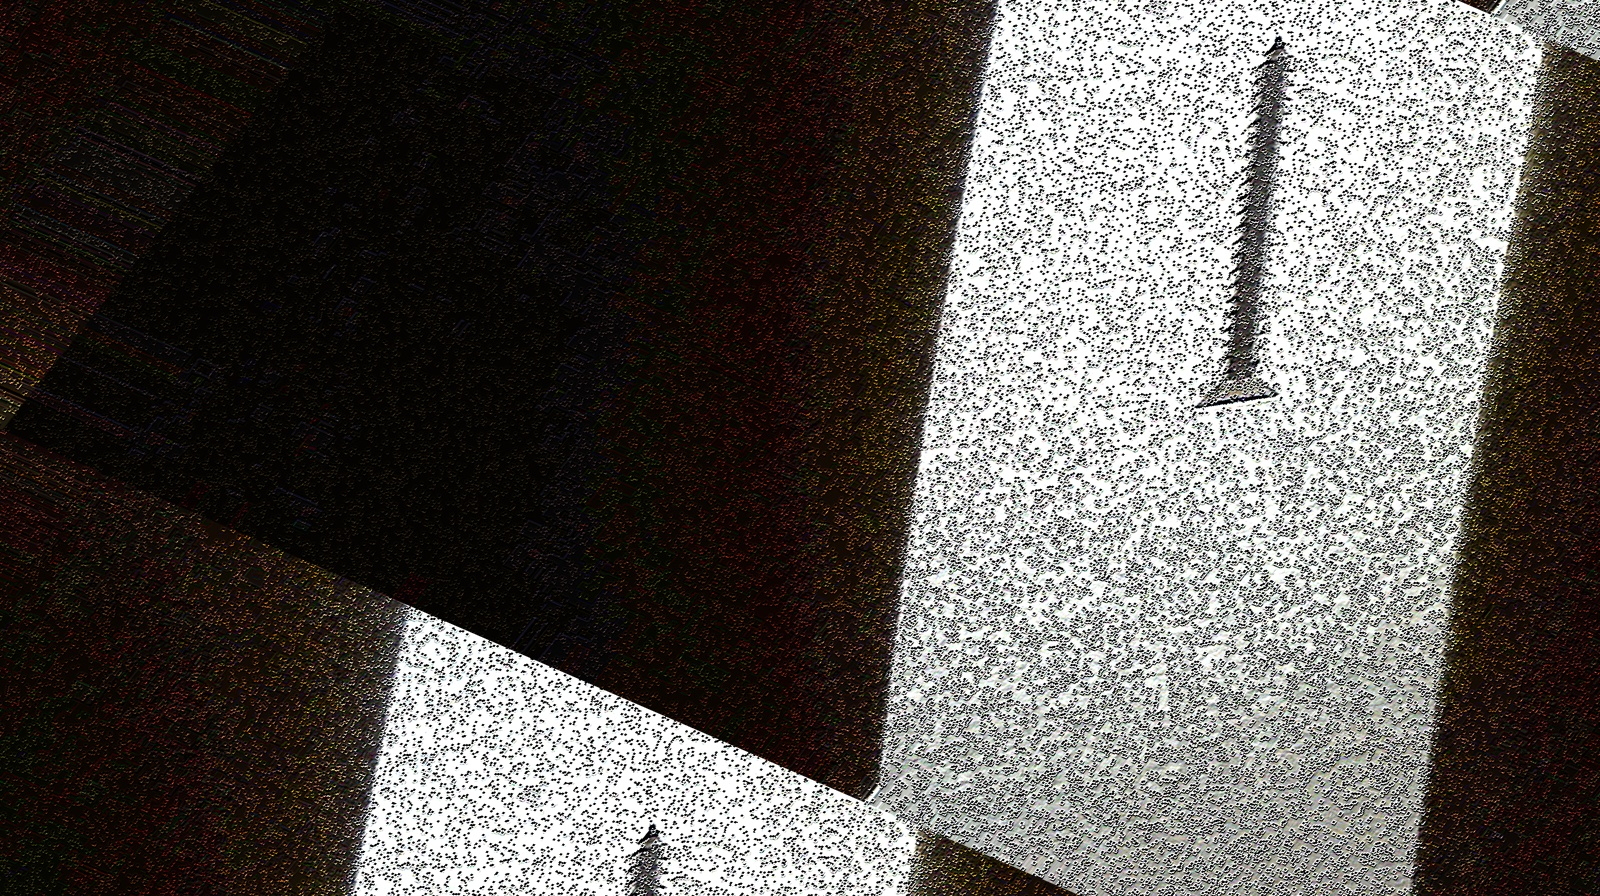S002: (1013, 9, 1510, 439)
